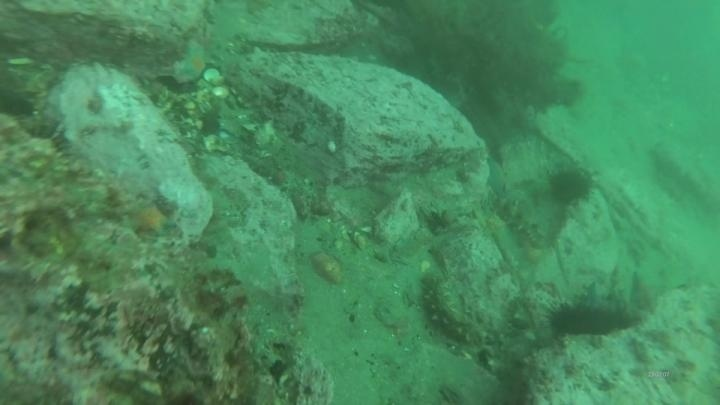echinus: (545, 298, 623, 341), (545, 164, 596, 207)
holothurian: (418, 273, 489, 349), (492, 196, 549, 250)
starfish: (124, 200, 176, 239), (173, 40, 215, 84), (483, 155, 511, 203)
